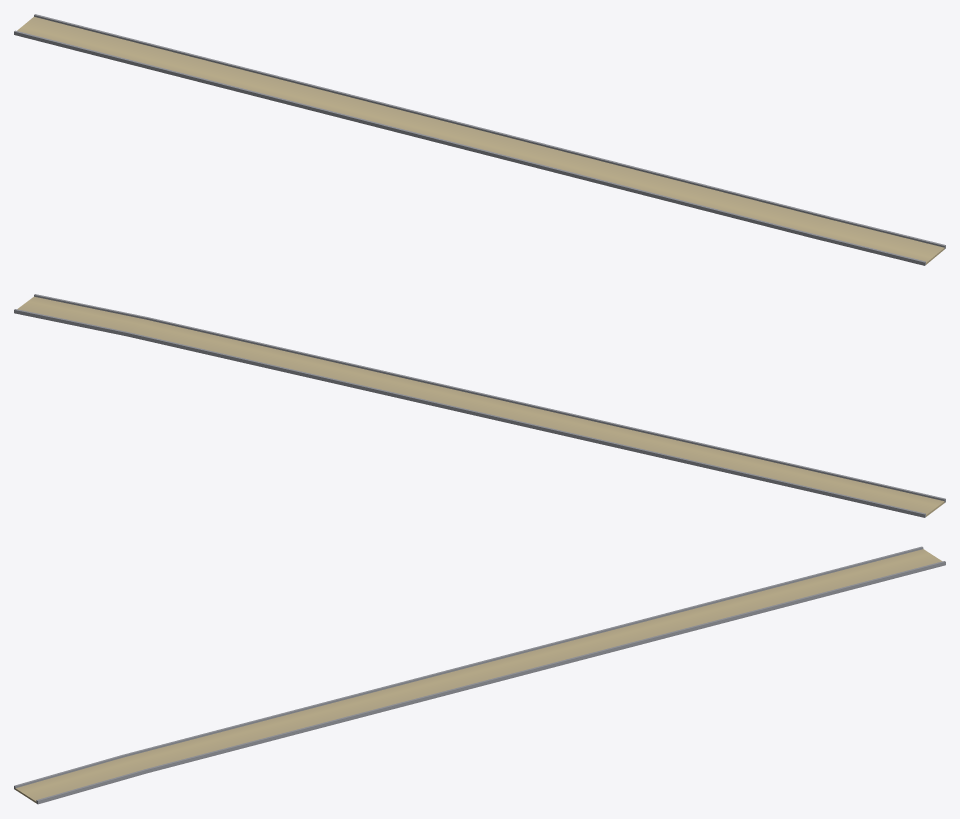
The model's file is sidewalk_7.fbx.
The picture shows the model from 3 angles, top to bottom: view 1: azimuth 30°, elevation 25°; view 2: azimuth 210°, elevation 25°; view 3: azimuth 270°, elevation 25°; orthographic projection.
Visible parts, largest first — view 1: sidewalk_06; view 2: sidewalk_06; view 3: sidewalk_06.
Boxes of the visible parts, x1,y1,x2,y2 form: sidewalk_06: [14, 14, 945, 265]; sidewalk_06: [14, 294, 945, 517]; sidewalk_06: [14, 546, 945, 804].
Bounding box in the file's own units: 4.11 × 0.1389 × 6.68.
Materials: 1 (1 with a texture image).
